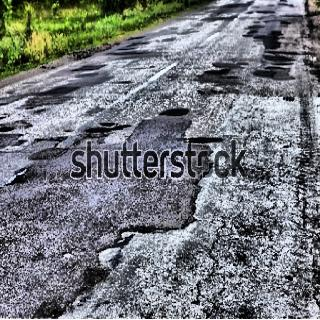alligator-crack: (197, 154, 320, 319)
pothole: (242, 0, 308, 83), (78, 115, 130, 143), (108, 30, 158, 58), (203, 54, 247, 82), (36, 83, 79, 101), (184, 131, 224, 148), (157, 101, 192, 120), (68, 61, 107, 76), (7, 169, 30, 187), (0, 116, 19, 134)
